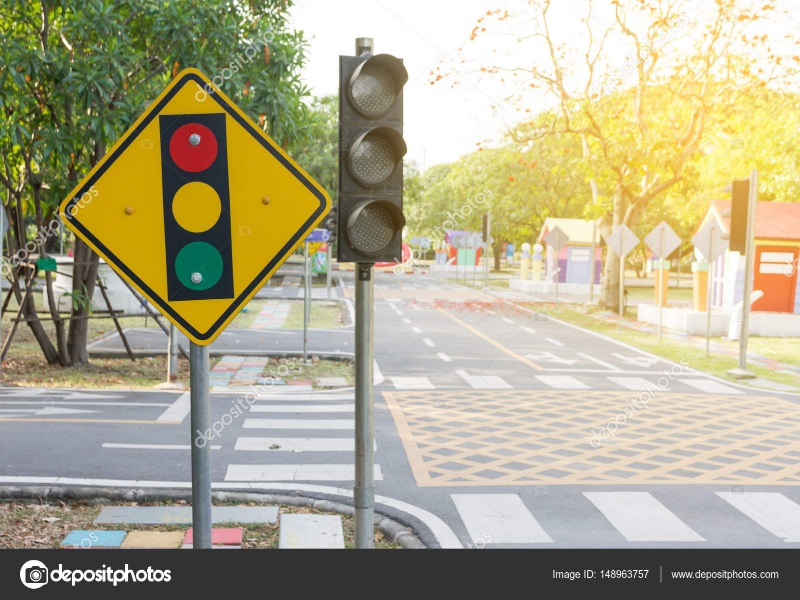traffic signal sign: (54, 65, 334, 349)
